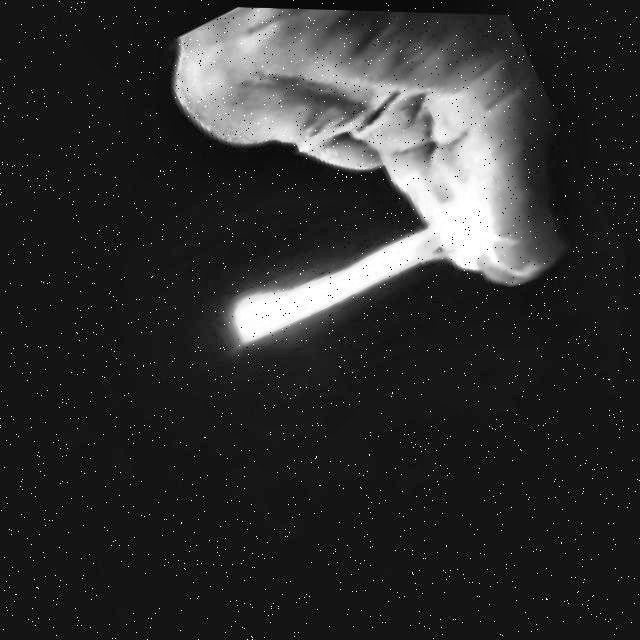Fire: (206, 162, 510, 382)
